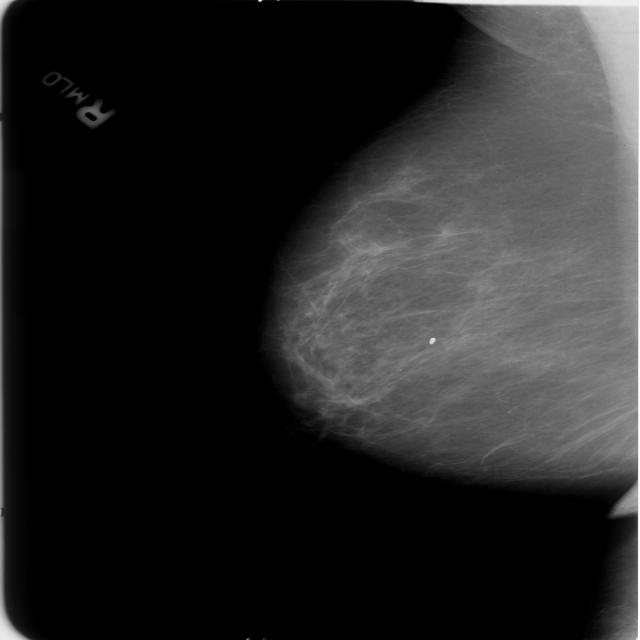normal: (264, 8, 640, 496)
